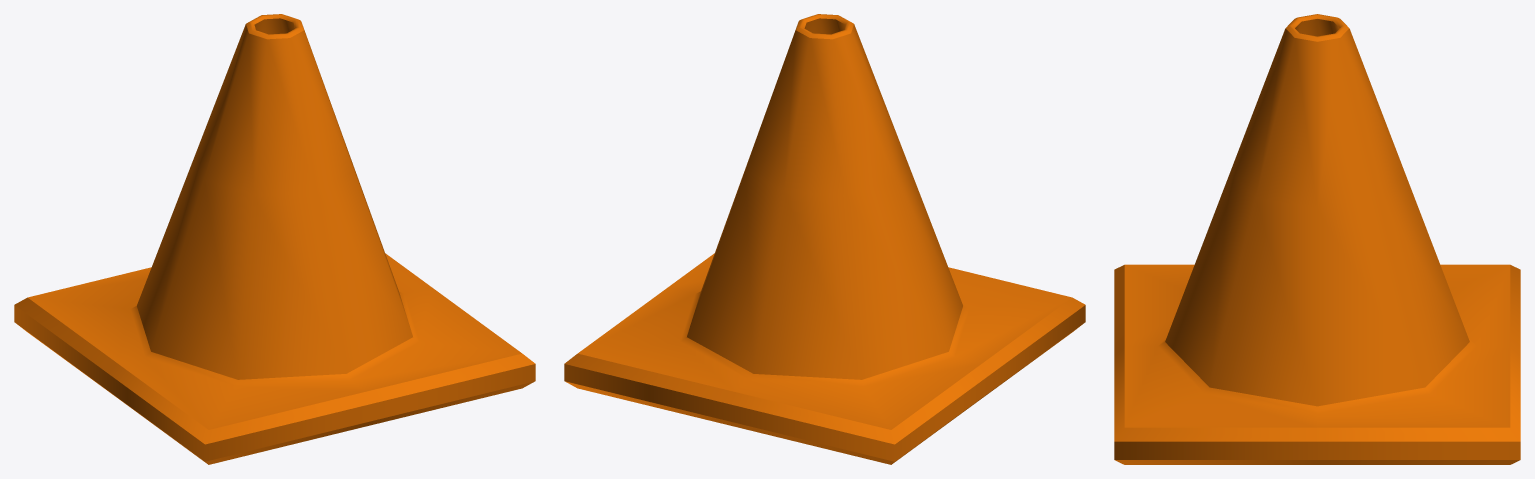
The model's file is Traffic Cone.fbx.
3 renders of one model, left to right at view 1: azimuth 30°, elevation 25°; view 2: azimuth 150°, elevation 25°; view 3: azimuth 270°, elevation 25°, orthographic. The views are drawn at different scales.
Parts seen in each view (by area): view 1: Circle; view 2: Circle; view 3: Circle.
Part boxes in pixels (x1,y1,x2,y2): Circle: (14,14,535,464); Circle: (564,14,1085,464); Circle: (1114,14,1520,464).
Size of the model in its own units: 51.54 by 50 by 51.54.
